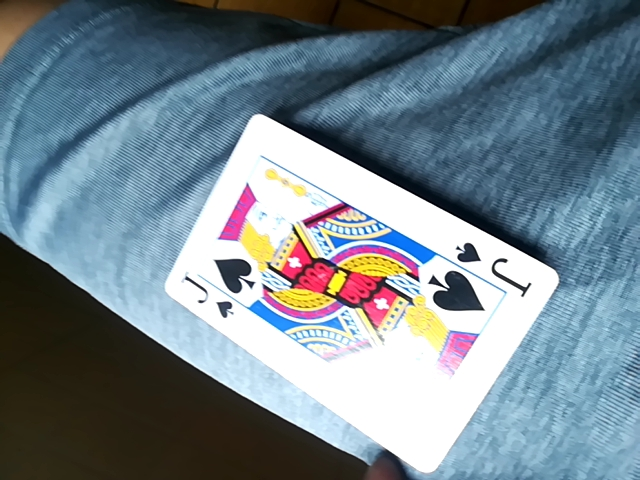ht j: (166, 114, 560, 479)
